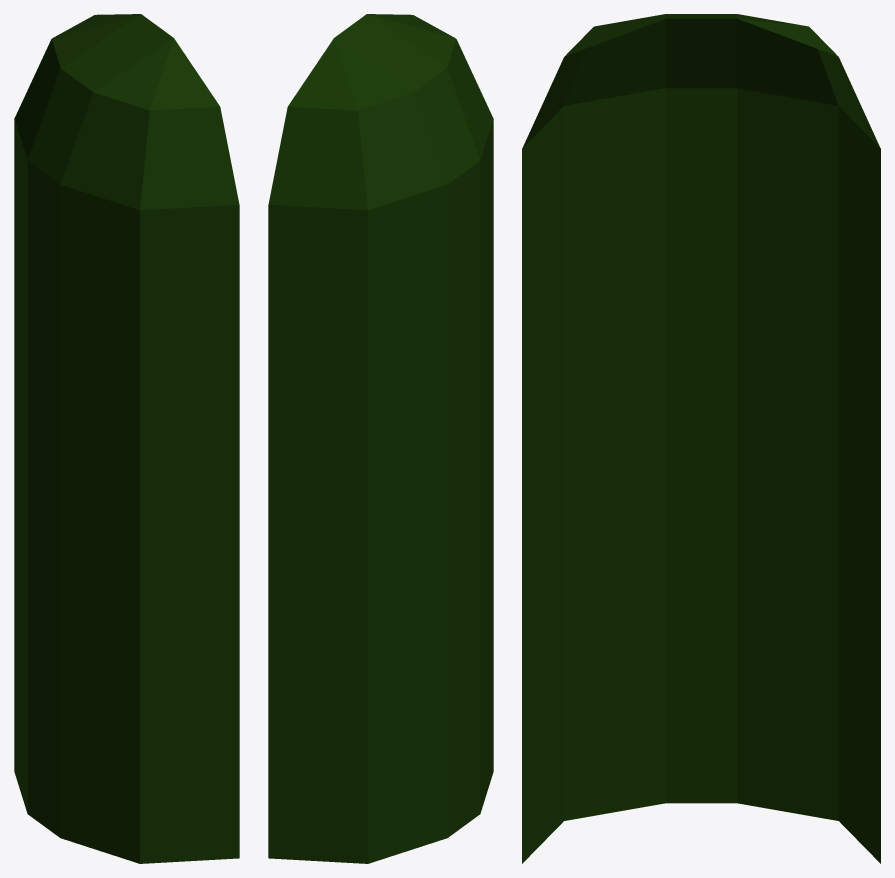
File: HedgeCorner.FBX
3 views of the same model, side by side, from view 1: azimuth 30°, elevation 25°; view 2: azimuth 150°, elevation 25°; view 3: azimuth 270°, elevation 25° (orthographic). The views are drawn at different scales.
Parts seen in each view (by area): view 1: leftBush; view 2: leftBush; view 3: leftBush.
Part boxes in pixels (box(x1,y1,x2,y2)): leftBush: box(14, 14, 239, 863); leftBush: box(268, 14, 493, 863); leftBush: box(522, 14, 880, 863).
Size of the model in its own units: 0.2 by 1.3 by 0.5.
